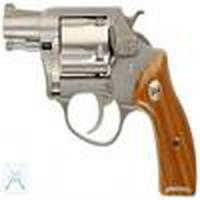gun: (3, 6, 200, 189)
